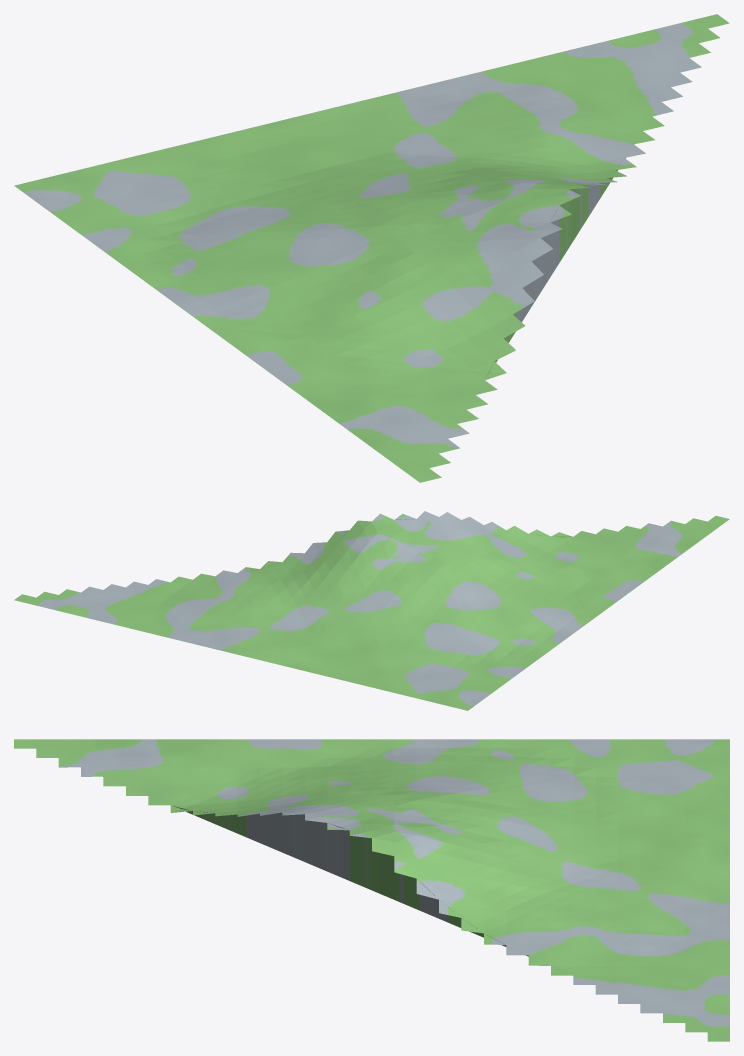
The model's file is Grass_RockyGround_03_SW.obj.
3 renders of one model, top to bottom at view 1: azimuth 30°, elevation 25°; view 2: azimuth 150°, elevation 25°; view 3: azimuth 270°, elevation 25°, orthographic. The views are drawn at different scales.
Size of the model in its own units: 10 by 0.8432 by 10.
Materials: 1 (1 with a texture image).
